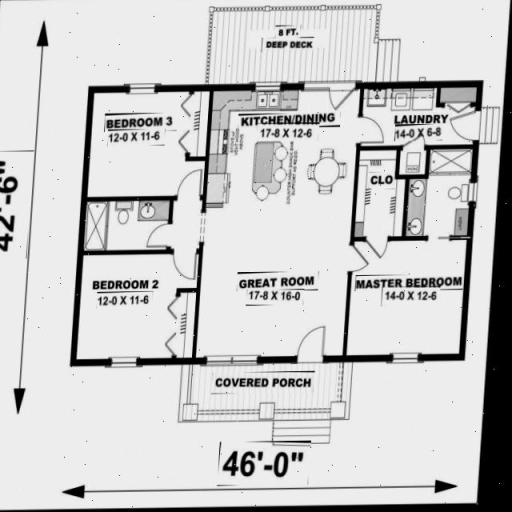Room: (365, 97, 474, 181)
bedroom: (354, 244, 468, 353), (80, 254, 195, 361), (92, 91, 204, 197)
hall: (209, 215, 344, 363)
kitchen: (215, 96, 360, 208)
porch: (187, 367, 344, 416)
